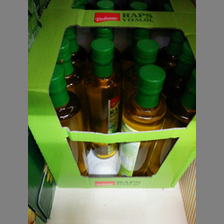oil: (119, 65, 167, 176), (82, 40, 119, 159)
